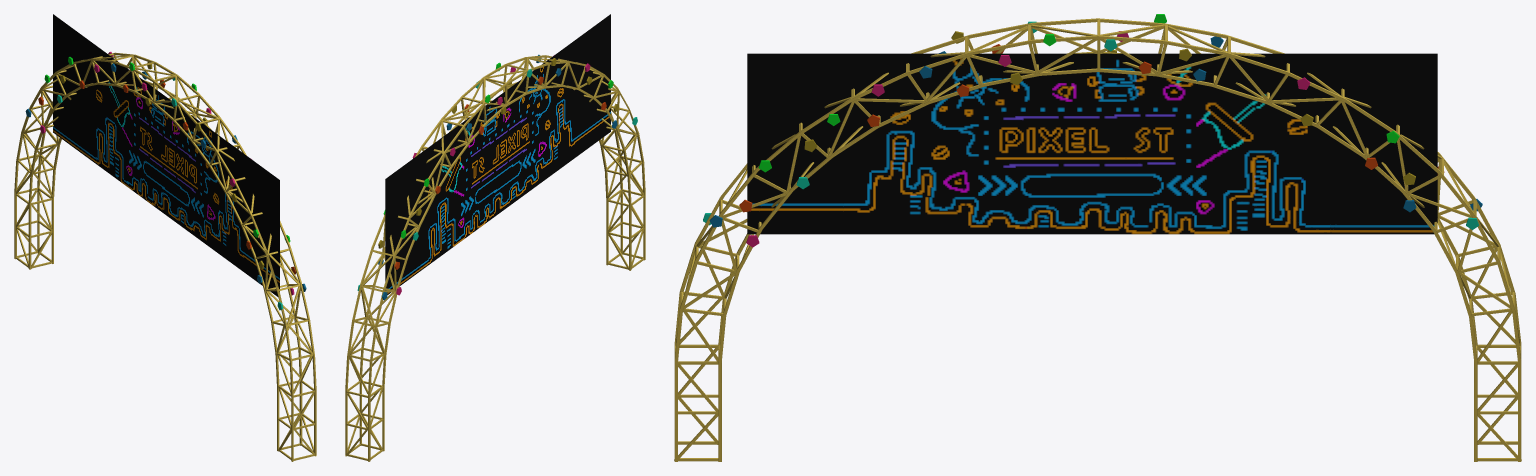
Rendered from Pixel_Build_0022.fbx.
3 renders of one model, left to right at view 1: azimuth 30°, elevation 25°; view 2: azimuth 150°, elevation 25°; view 3: azimuth 270°, elevation 25°, orthographic. The views are drawn at different scales.
Visible parts, largest first — view 1: Pixel_Build_0022; view 2: Pixel_Build_0022; view 3: Pixel_Build_0022.
Boxes of the visible parts, x1,y1,x2,y2 form: Pixel_Build_0022: [14, 14, 316, 461]; Pixel_Build_0022: [345, 14, 645, 461]; Pixel_Build_0022: [674, 14, 1521, 461].
Bounding box in the file's own units: 67.71 × 673 × 1206.
